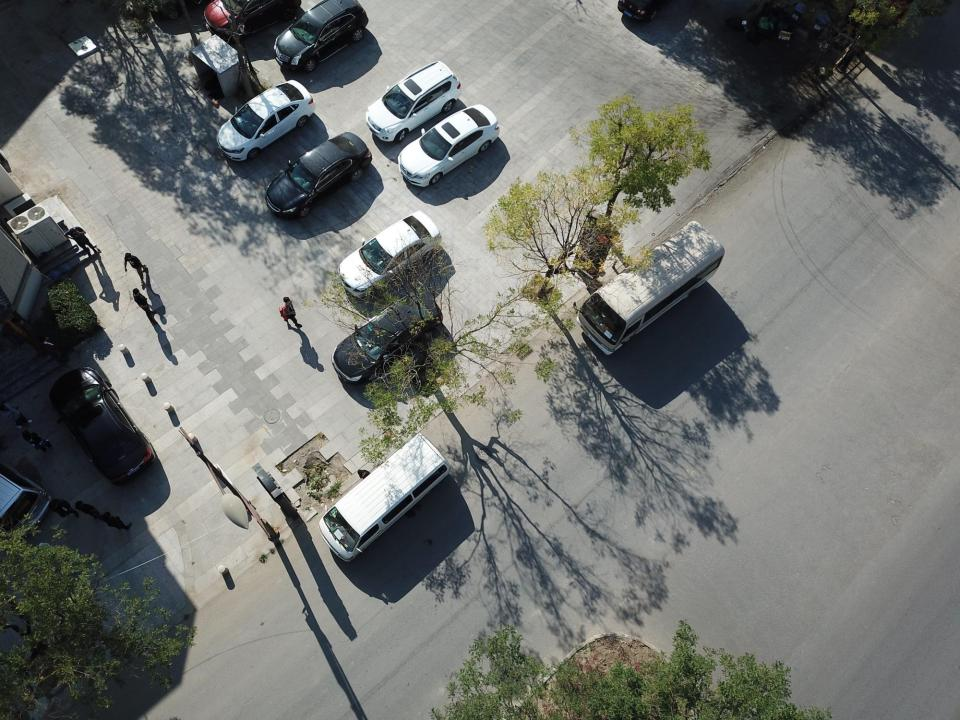bus: (572, 221, 726, 356)
car: (48, 366, 157, 487), (331, 295, 444, 385), (264, 132, 373, 219), (337, 210, 442, 298), (397, 104, 500, 188), (215, 78, 317, 162), (365, 60, 463, 143), (272, 0, 370, 72), (203, 0, 303, 36), (617, 0, 679, 22)
van: (318, 431, 454, 563), (0, 458, 52, 539)
